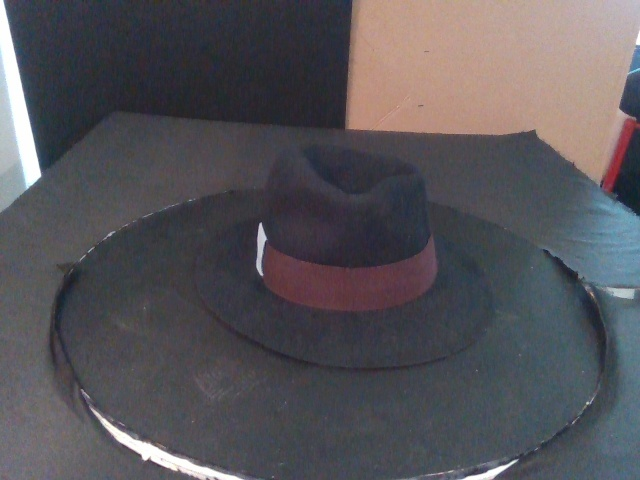hat: (195, 145, 497, 368)
